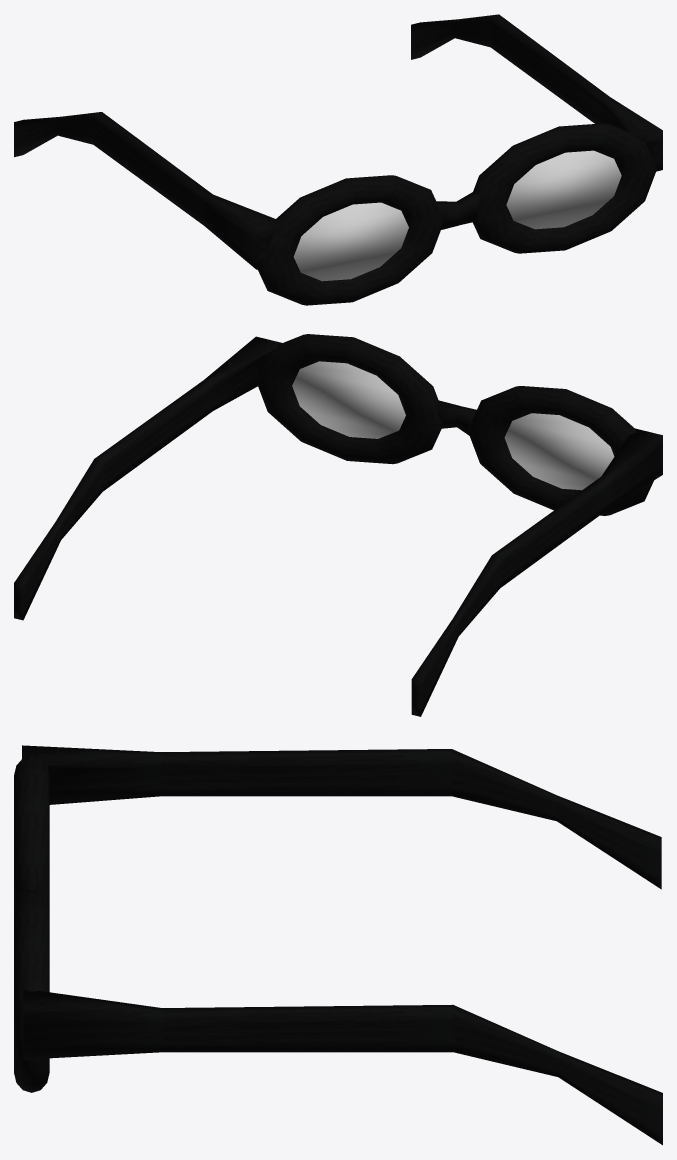
File: Sunglasses.fbx
3 views of the same model, one above another, from view 1: azimuth 30°, elevation 25°; view 2: azimuth 150°, elevation 25°; view 3: azimuth 270°, elevation 25° (orthographic). The views are drawn at different scales.
Visible parts, largest first — view 1: sunglassesFrame, glass; view 2: sunglassesFrame, glass; view 3: sunglassesFrame.
Part boxes in pixels (box(x1,y1,x2,y2)): sunglassesFrame: box(14, 14, 662, 305); glass: box(293, 150, 621, 281); sunglassesFrame: box(14, 334, 662, 716); glass: box(292, 361, 614, 490); sunglassesFrame: box(14, 745, 662, 1145).
Bounding box in the file's own units: 0.5745 × 0.174 × 0.6001.
